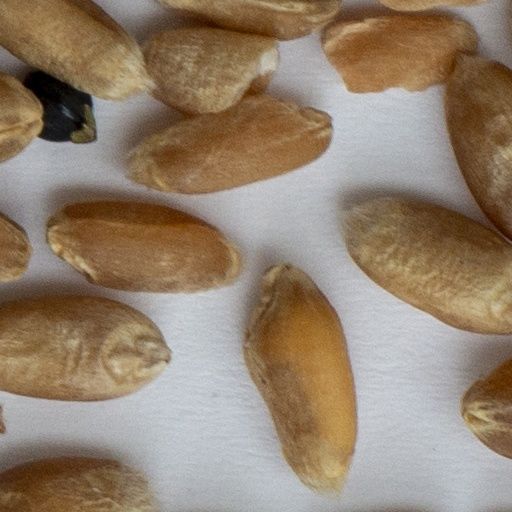Fallopia-Convolvulus-poly: (28, 74, 94, 140)
